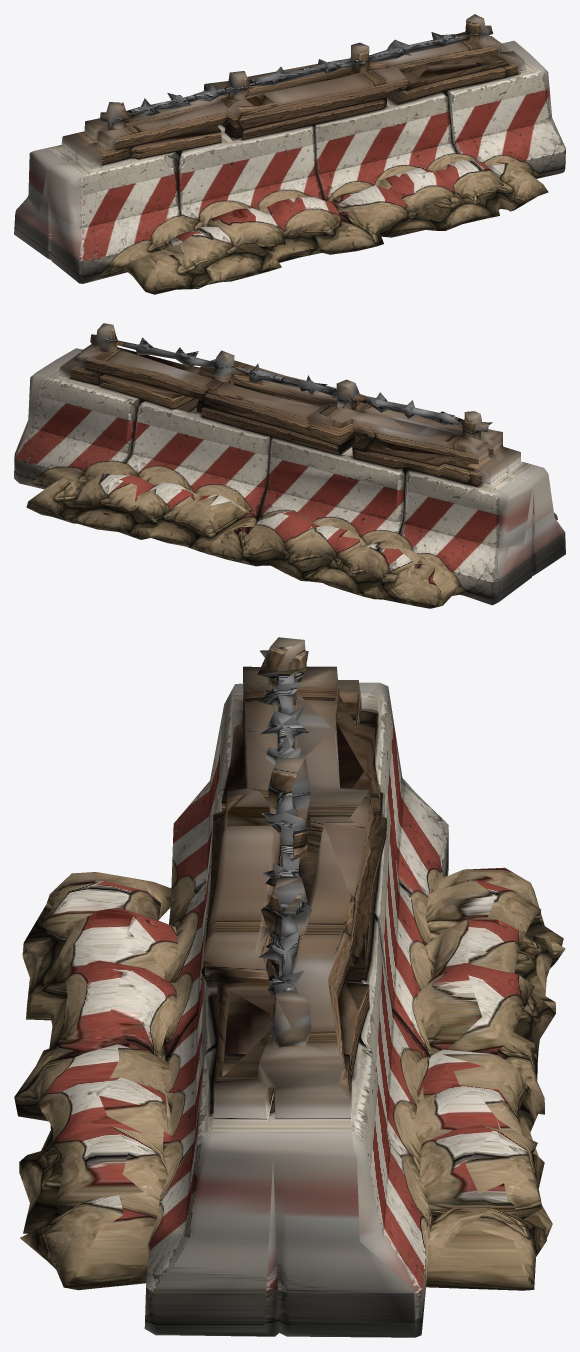
File: barr.glb
3 views of the same model, one above another, from view 1: azimuth 30°, elevation 25°; view 2: azimuth 150°, elevation 25°; view 3: azimuth 270°, elevation 25° (orthographic). The views are drawn at different scales.
Parts seen in each view (by area): view 1: world; view 2: world; view 3: world.
Boxes of the visible parts, left/top/right/bottom form: world: left=14, top=14, right=565, bottom=294; world: left=14, top=323, right=565, bottom=608; world: left=14, top=637, right=565, bottom=1337.
Size of the model in its own units: 5.5 by 1.6 by 2.71.
1 material, 1 textured.
